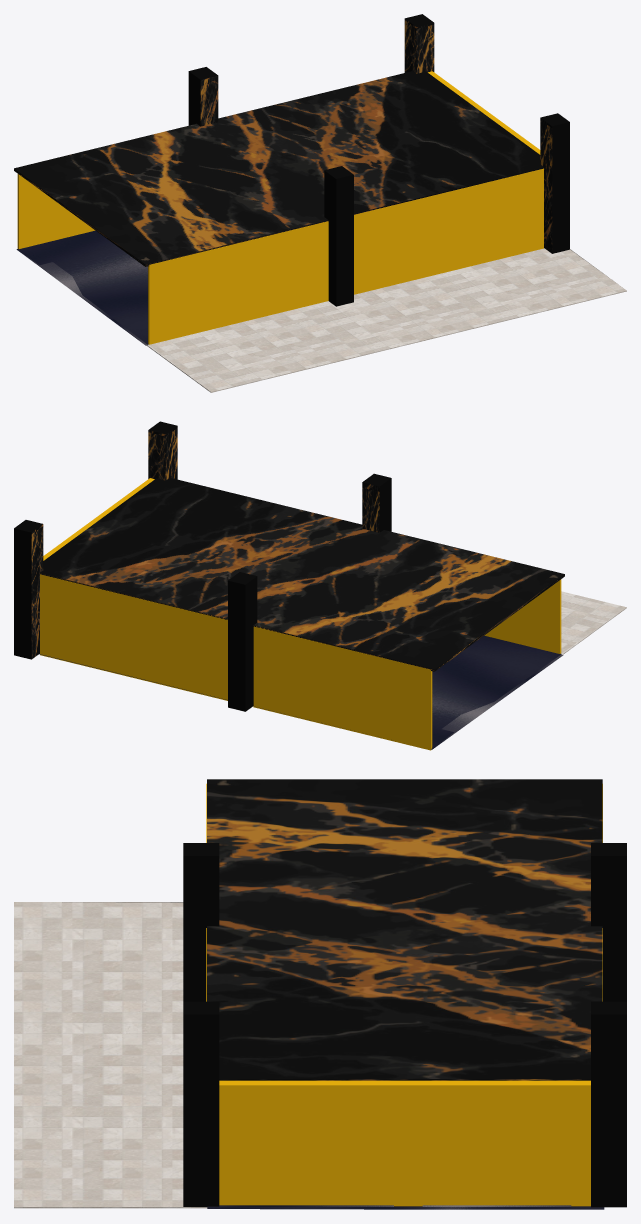
File: habitacionBox.obj
3 renders of one model, top to bottom at view 1: azimuth 30°, elevation 25°; view 2: azimuth 150°, elevation 25°; view 3: azimuth 270°, elevation 25°, orthographic. The views are drawn at different scales.
Parts seen in each view (by area): view 1: habitacionBox:techoBOX, habitacionBox:polySurface14polySurface8cimientosGymCimientoBOXex, habitacionBox:ColumnaBOX5, habitacionBox:ColumnaBOX4, habitacionBox:CimientoBOXpolySurface14polySurface8cimientosGympo, habitacionBox:ColumnaBOX, habitacionBox:ColumnaBOX1, habitacionBox:ColumnaBOX7, habitacionBox:ColumnaBOX3, habitacionBox:ColumnaBOX2, habitacionBox:polySurface49CimientoBOXpolySurface14polySurface8c, habitacionBox:ColumnaBOX8; view 2: habitacionBox:techoBOX, habitacionBox:ColumnaBOX6, habitacionBox:ColumnaBOX7, habitacionBox:CimientoBOXpolySurface14polySurface8cimientosGympo, habitacionBox:ColumnaBOX2, habitacionBox:ColumnaBOX3, habitacionBox:ColumnaBOX4, habitacionBox:polySurface14polySurface8cimientosGymCimientoBOXex, habitacionBox:ColumnaBOX, habitacionBox:ColumnaBOX1, habitacionBox:polySurface49CimientoBOXpolySurface14polySurface8c, habitacionBox:ColumnaBOX8; view 3: habitacionBox:techoBOX, habitacionBox:polySurface14polySurface8cimientosGymCimientoBOXex, habitacionBox:ColumnaBOX8, habitacionBox:ColumnaBOX, habitacionBox:ColumnaBOX3, habitacionBox:ColumnaBOX1, habitacionBox:ColumnaBOX2, habitacionBox:polySurface49CimientoBOXpolySurface14polySurface8c, habitacionBox:CimientoBOXpolySurface14polySurface8cimientosGympo.
Boxes of the visible parts, bbox=[...] form: habitacionBox:techoBOX: bbox=[14, 71, 544, 266]; habitacionBox:polySurface14polySurface8cimientosGymCimientoBOXex: bbox=[146, 248, 626, 392]; habitacionBox:ColumnaBOX5: bbox=[354, 168, 543, 294]; habitacionBox:ColumnaBOX4: bbox=[148, 221, 328, 344]; habitacionBox:CimientoBOXpolySurface14polySurface8cimientosGympo: bbox=[17, 230, 148, 344]; habitacionBox:ColumnaBOX: bbox=[540, 113, 569, 253]; habitacionBox:ColumnaBOX1: bbox=[324, 166, 353, 306]; habitacionBox:ColumnaBOX7: bbox=[17, 174, 95, 248]; habitacionBox:ColumnaBOX3: bbox=[404, 14, 434, 73]; habitacionBox:ColumnaBOX2: bbox=[188, 67, 218, 126]; habitacionBox:polySurface49CimientoBOXpolySurface14polySurface8c: bbox=[16, 249, 147, 345]; habitacionBox:ColumnaBOX8: bbox=[428, 71, 540, 154]; habitacionBox:techoBOX: bbox=[39, 478, 564, 671]; habitacionBox:ColumnaBOX6: bbox=[40, 574, 227, 700]; habitacionBox:ColumnaBOX7: bbox=[253, 626, 432, 750]; habitacionBox:CimientoBOXpolySurface14polySurface8cimientosGympo: bbox=[432, 635, 561, 748]; habitacionBox:ColumnaBOX2: bbox=[228, 572, 257, 711]; habitacionBox:ColumnaBOX3: bbox=[14, 520, 43, 659]; habitacionBox:ColumnaBOX4: bbox=[484, 579, 561, 653]; habitacionBox:polySurface14polySurface8cimientosGymCimientoBOXex: bbox=[561, 591, 626, 654]; habitacionBox:ColumnaBOX: bbox=[148, 421, 177, 480]; habitacionBox:ColumnaBOX1: bbox=[362, 473, 391, 532]; habitacionBox:polySurface49CimientoBOXpolySurface14polySurface8c: bbox=[39, 654, 563, 749]; habitacionBox:ColumnaBOX8: bbox=[43, 478, 154, 560]; habitacionBox:techoBOX: bbox=[207, 779, 602, 1080]; habitacionBox:polySurface14polySurface8cimientosGymCimientoBOXex: bbox=[14, 902, 207, 1208]; habitacionBox:ColumnaBOX8: bbox=[219, 1080, 590, 1206]; habitacionBox:ColumnaBOX: bbox=[183, 1001, 219, 1206]; habitacionBox:ColumnaBOX3: bbox=[591, 1001, 626, 1207]; habitacionBox:ColumnaBOX1: bbox=[183, 843, 219, 1001]; habitacionBox:ColumnaBOX2: bbox=[591, 843, 626, 1001]; habitacionBox:polySurface49CimientoBOXpolySurface14polySurface8c: bbox=[207, 1206, 604, 1209]; habitacionBox:CimientoBOXpolySurface14polySurface8cimientosGympo: bbox=[207, 1205, 571, 1207].
Size of the model in its own units: 95.45 by 28.15 by 80.34.
6 materials, 6 textured.
